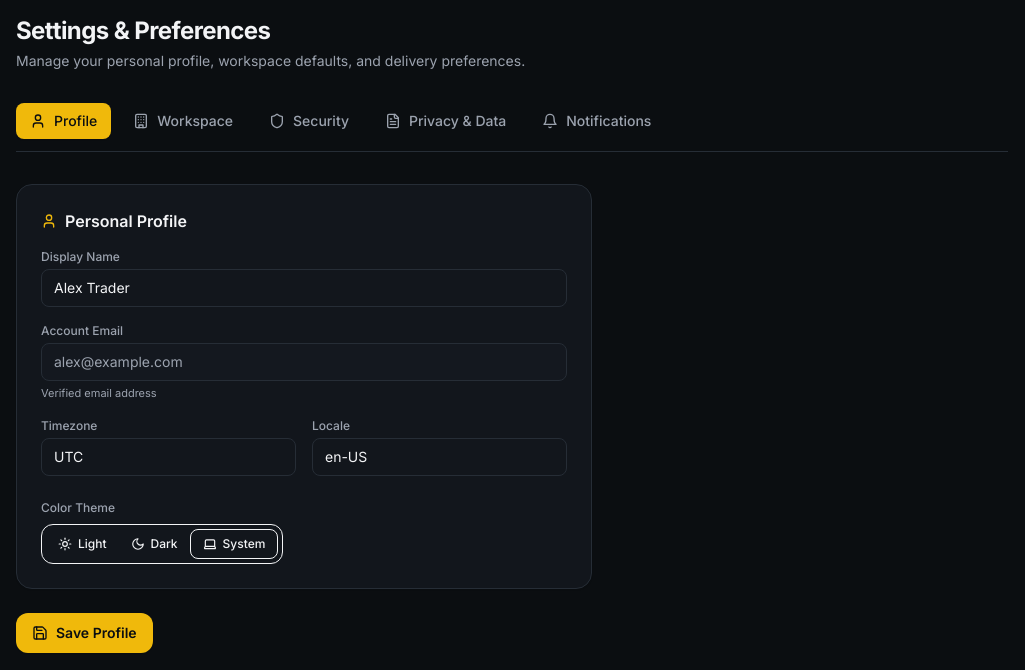
Test: SettingsPage › switches to notifications tab and displays preference toggles
The image size is (1025, 670).
Expected: the heading "Settings & Preferences" is shown, [16,16,270,45]
Step 1. Click the button "Notifications" → coordinates (597, 121), box [528,103,665,139]
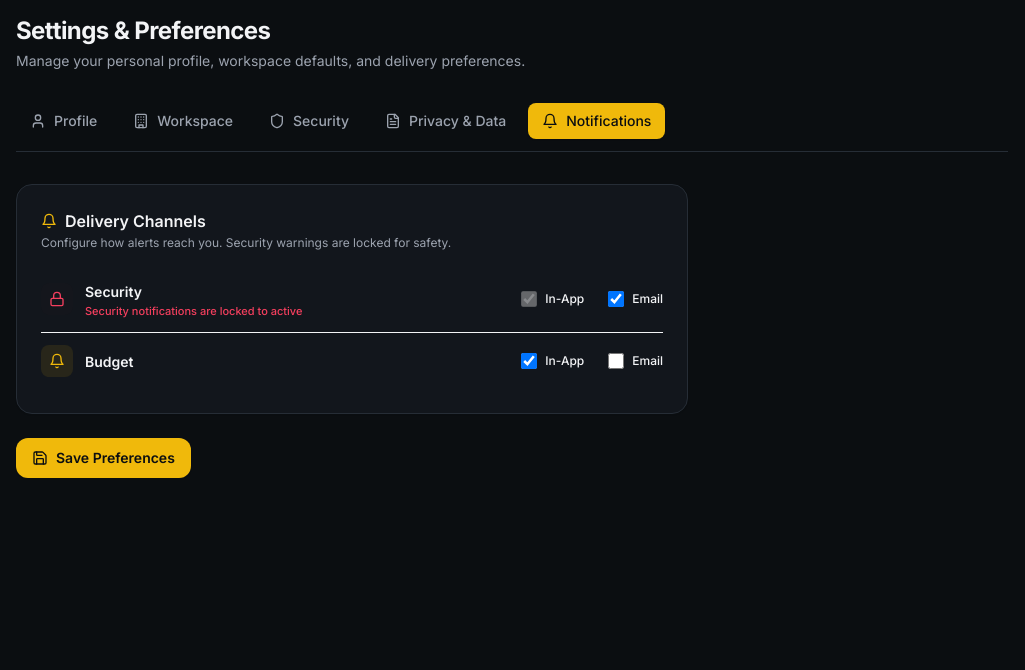
Expected: the heading "Delivery Channels" is shown, [41,211,206,231]
Expected: the text "Security notifications are locked to active" is shown, [85,303,302,320]
